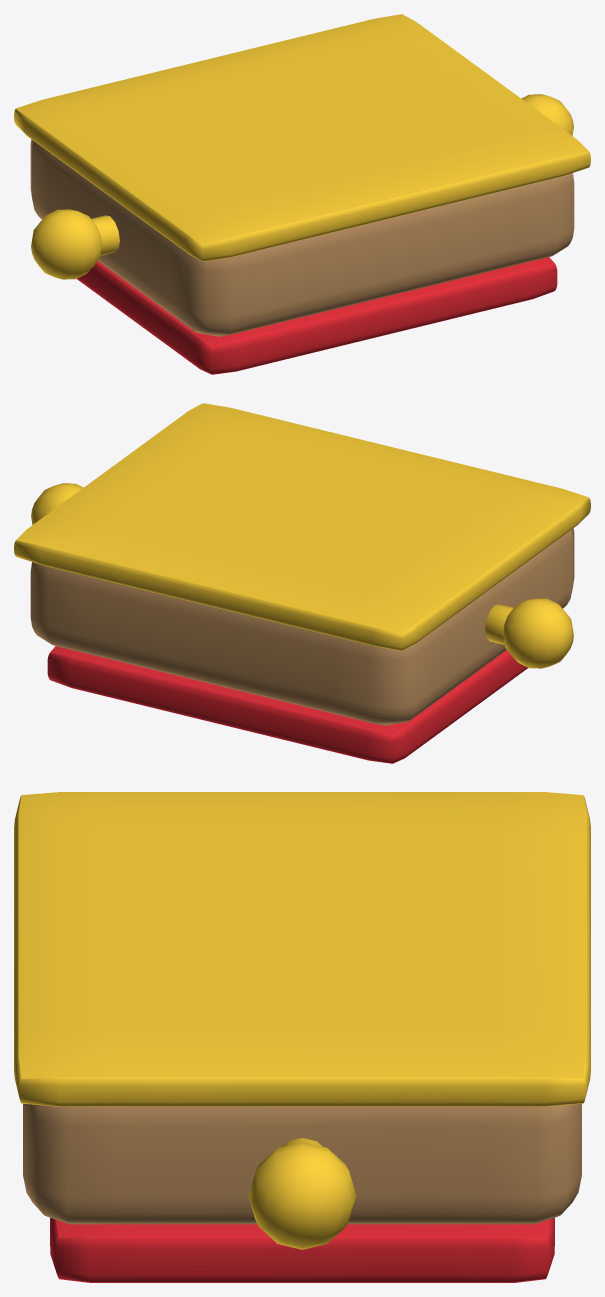
File: StampOutRider.obj
The picture shows the model from 3 angles, top to bottom: view 1: azimuth 30°, elevation 25°; view 2: azimuth 150°, elevation 25°; view 3: azimuth 270°, elevation 25°; orthographic projection. The views are drawn at different scales.
Visible parts, largest first — view 1: Band, Block, Rubber; view 2: Band, Block, Rubber; view 3: Band, Block, Rubber.
Part boxes in pixels (box(x1,y1,x2,y2)): Band: box(14, 14, 590, 279); Block: box(30, 139, 574, 336); Rubber: box(77, 257, 557, 374); Band: box(14, 403, 590, 668); Block: box(30, 528, 574, 725); Rubber: box(47, 646, 527, 763); Band: box(14, 792, 590, 1249); Block: box(23, 1103, 581, 1224); Rubber: box(50, 1217, 554, 1282).
Size of the model in its own units: 5.14 by 1.42 by 3.2.
